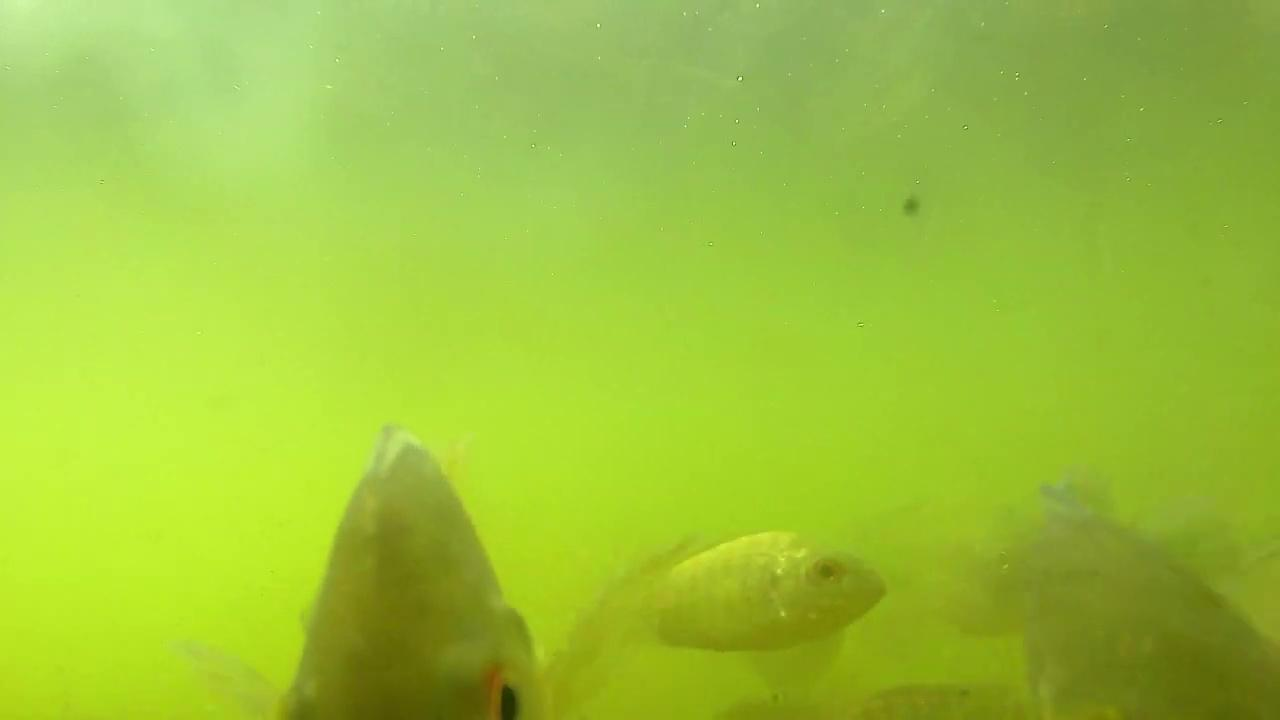Tilapia: (297, 414, 544, 720), (603, 510, 894, 668)
